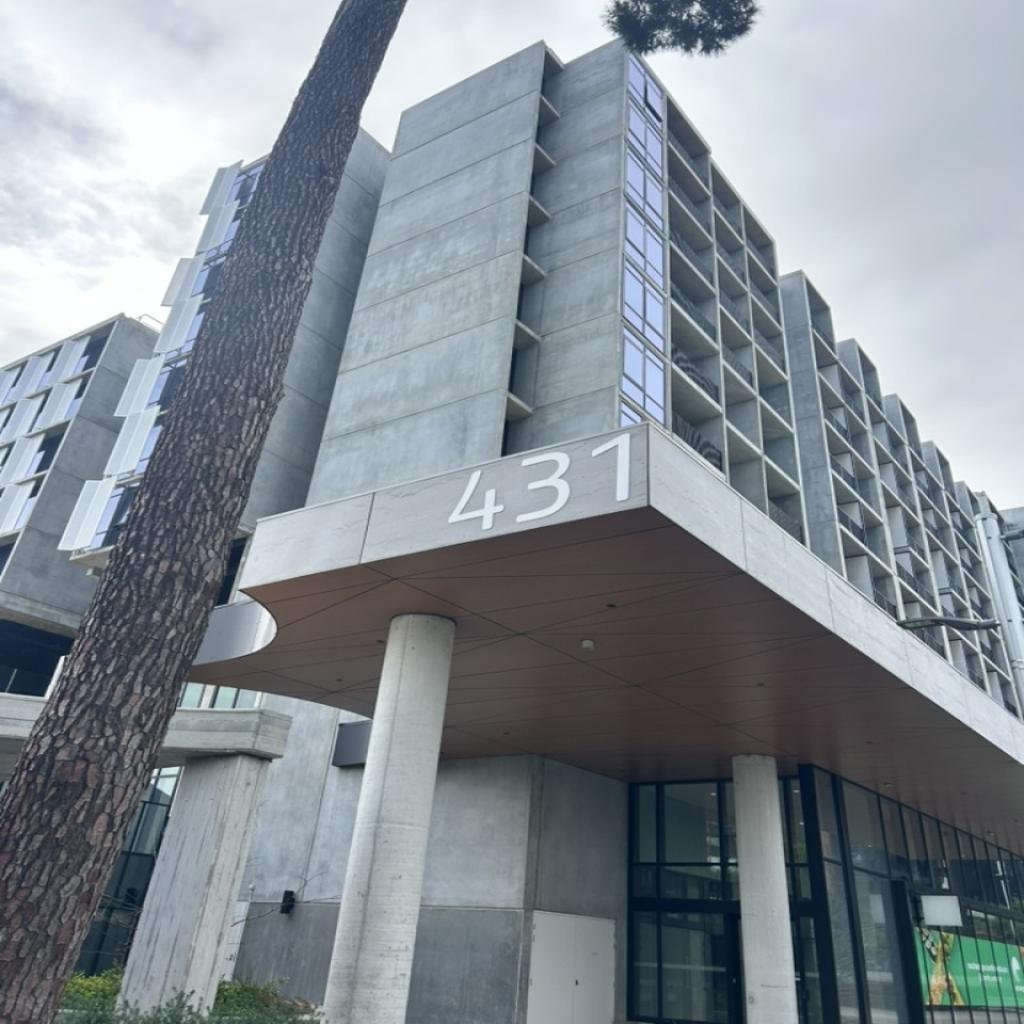BuildingCodes: (446, 432, 632, 530)
